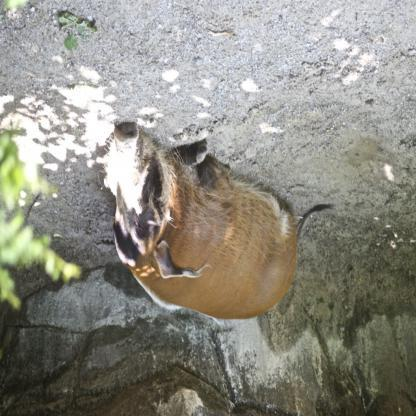boar: (100, 122, 336, 326)
